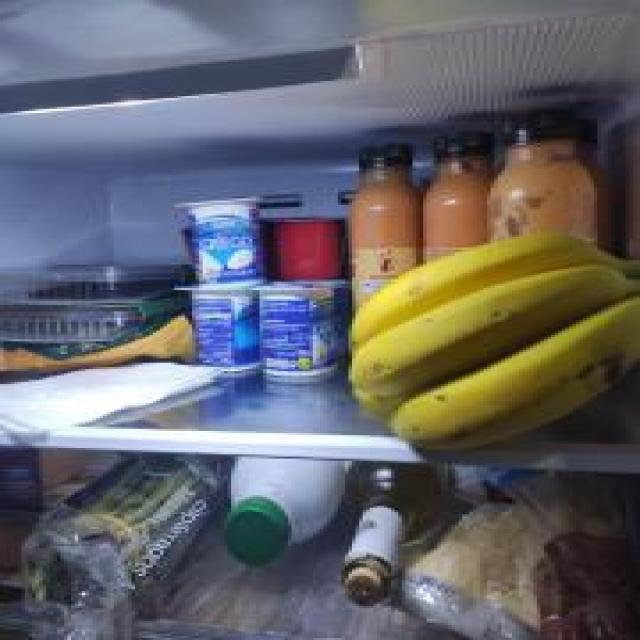banana: (352, 212, 636, 449)
grated_cheese: (382, 465, 635, 640)
milk: (220, 458, 345, 566)
yogurt: (261, 284, 343, 382), (176, 198, 265, 286), (181, 287, 263, 370), (268, 218, 344, 280)
